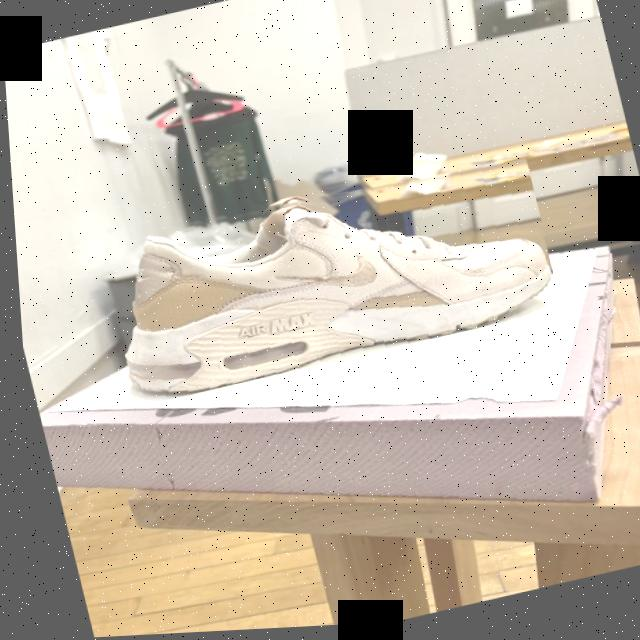shoe: (85, 143, 562, 409)
